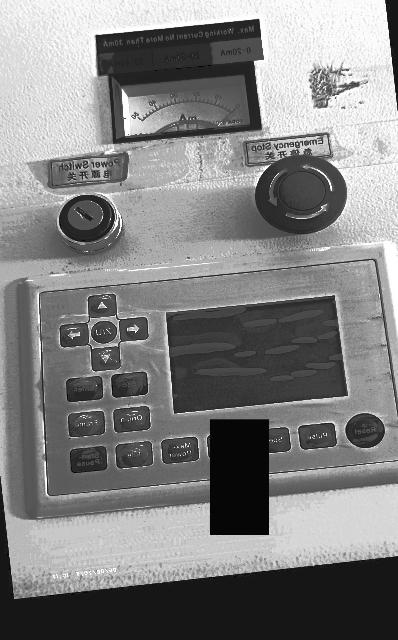Amp_Meter: (111, 75, 250, 140)
Display: (167, 296, 347, 413)
Down_button: (92, 347, 120, 371)
Emergency_Stop: (255, 155, 346, 234)
Enter_button: (67, 377, 102, 402)
Esc_button: (112, 372, 148, 397)
File_button: (116, 442, 152, 468)
Frame_button: (68, 412, 104, 437)
Left_button: (120, 317, 148, 341)
Max-Power_button: (162, 437, 199, 463)
Min-Power_button: (207, 434, 209, 453)
Origin_button: (114, 406, 150, 432)
Power_switch: (60, 196, 113, 239)
Pulse_button: (299, 423, 336, 450)
Reset_button: (346, 414, 385, 448)
Right_button: (60, 324, 88, 347)
Speed_button: (269, 428, 291, 453)
Start-Pause_button: (70, 447, 106, 473)
Up_button: (88, 295, 116, 317)
Z_U_button: (92, 321, 117, 343)
